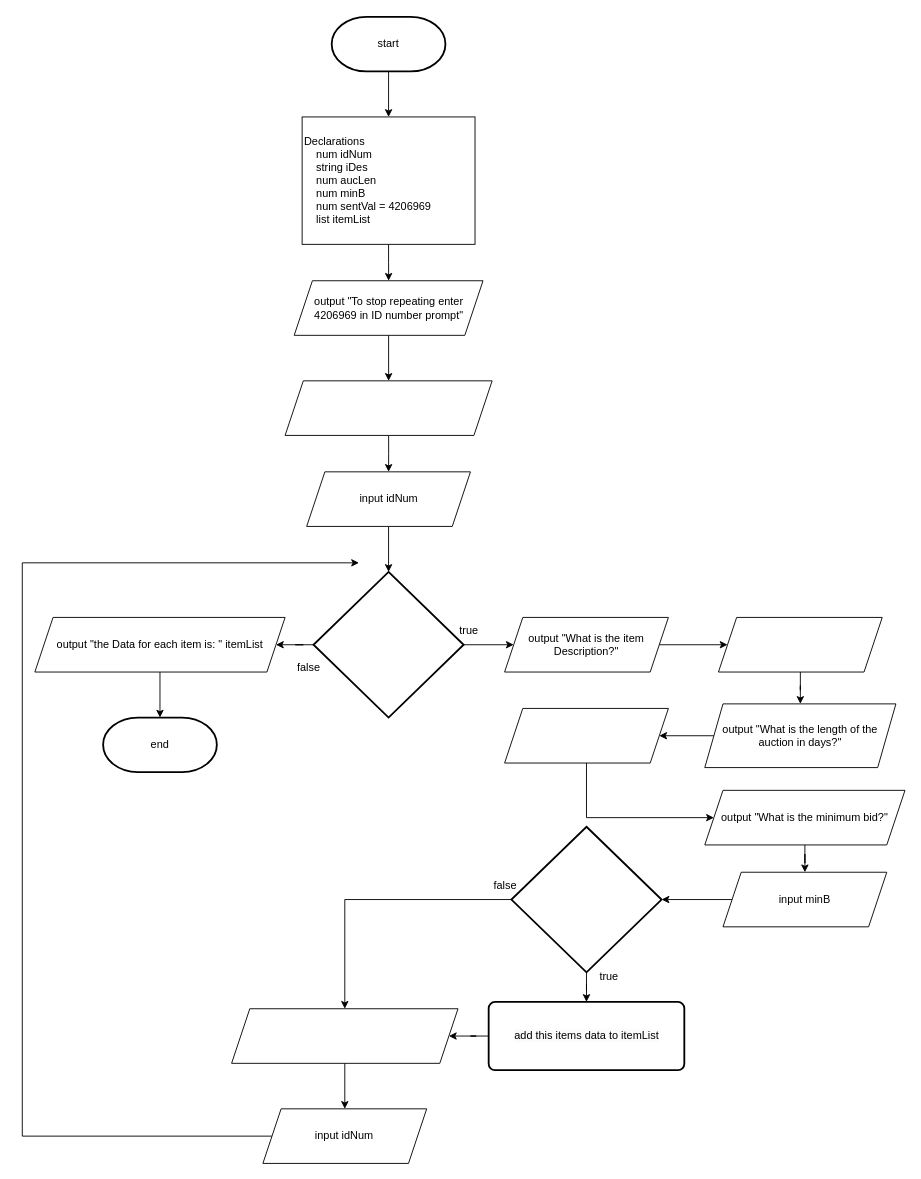
This 921x1179 diagram has some shape labels left out. Each missing label, with the box of its shape:
if idNum != 4206969: (312, 571, 464, 718)
if minB > 300: (510, 825, 662, 973)
input aucLen: (504, 708, 668, 763)
input iDes: (718, 617, 882, 672)
output "What is the first item's ID number?": (284, 380, 492, 435)
output "What is the next items ID num?": (231, 1008, 458, 1063)
